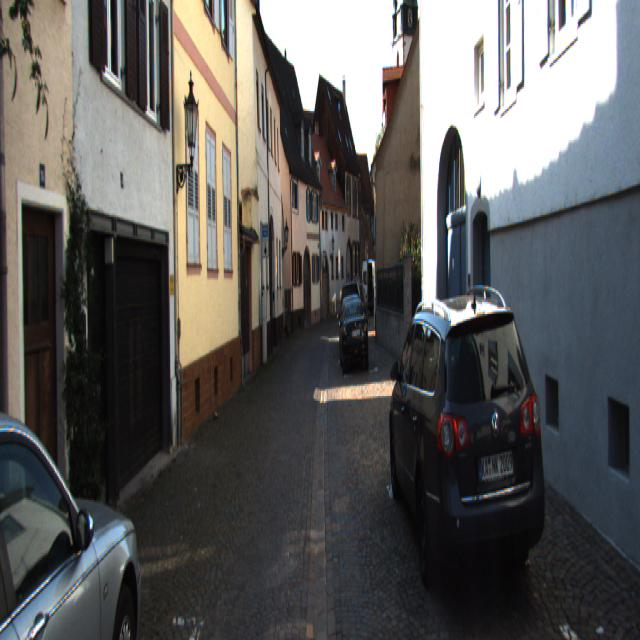Car: (387, 279, 550, 624), (0, 355, 147, 638), (340, 297, 368, 372), (362, 260, 384, 318)
